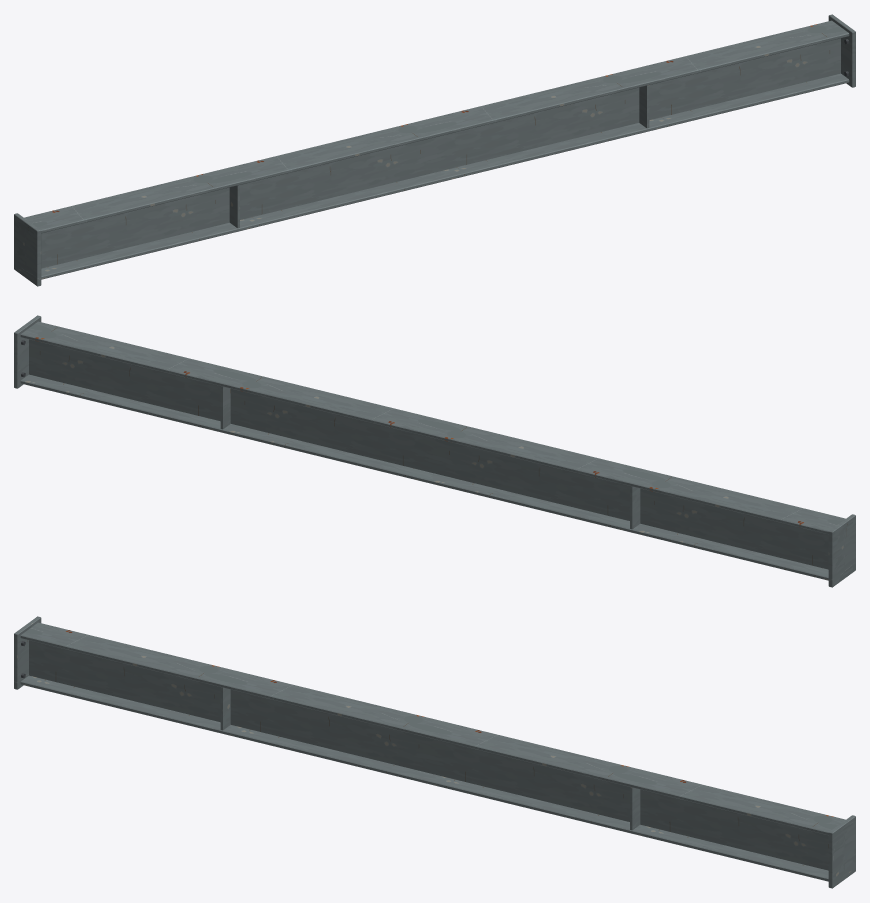
The model's file is gk_hbeam.glb.
3 renders of one model, top to bottom at view 1: azimuth 30°, elevation 25°; view 2: azimuth 150°, elevation 25°; view 3: azimuth 330°, elevation 25°, orthographic.
Visible parts, largest first — view 1: p; view 2: p; view 3: p.
Part boxes in pixels (left/top/right/bottom): p: left=14, top=14, right=855, bottom=286; p: left=14, top=315, right=855, bottom=587; p: left=14, top=616, right=855, bottom=888.
Bounding box in the file's own units: 4 × 0.26 × 0.2.
Materials: 2 (2 with a texture image).
